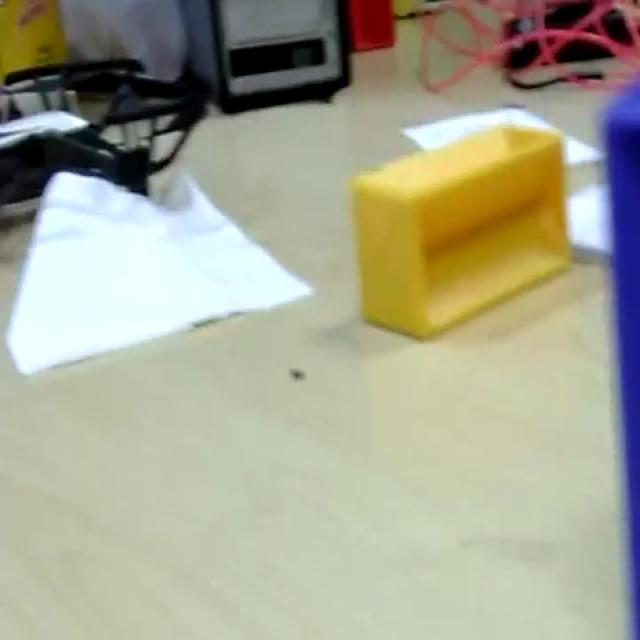yellow_block: (349, 117, 572, 339)
